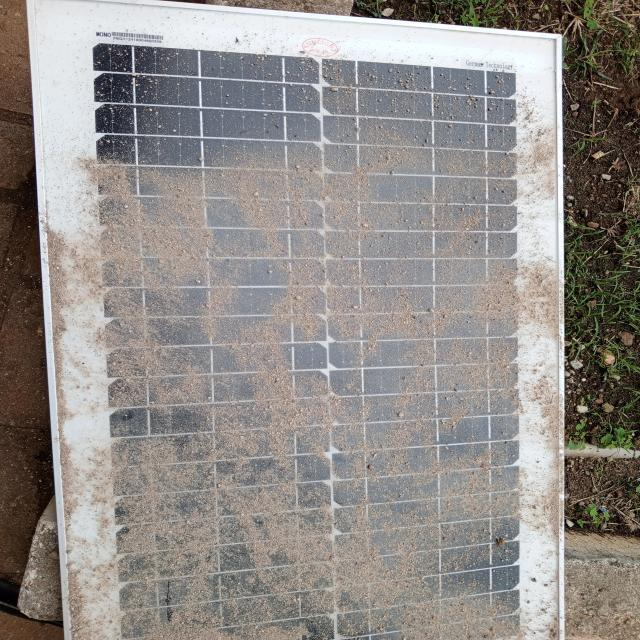Surface Contaminant: (106, 73, 528, 639)
